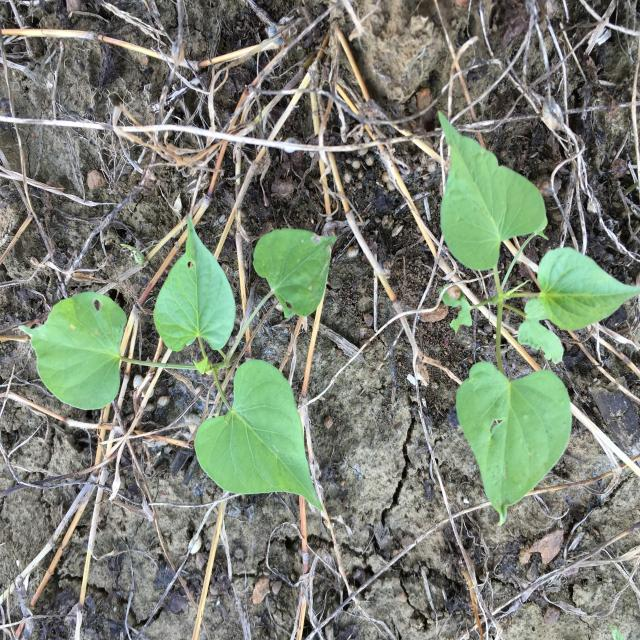MorningGlory: (18, 214, 337, 512), (438, 110, 640, 526)
